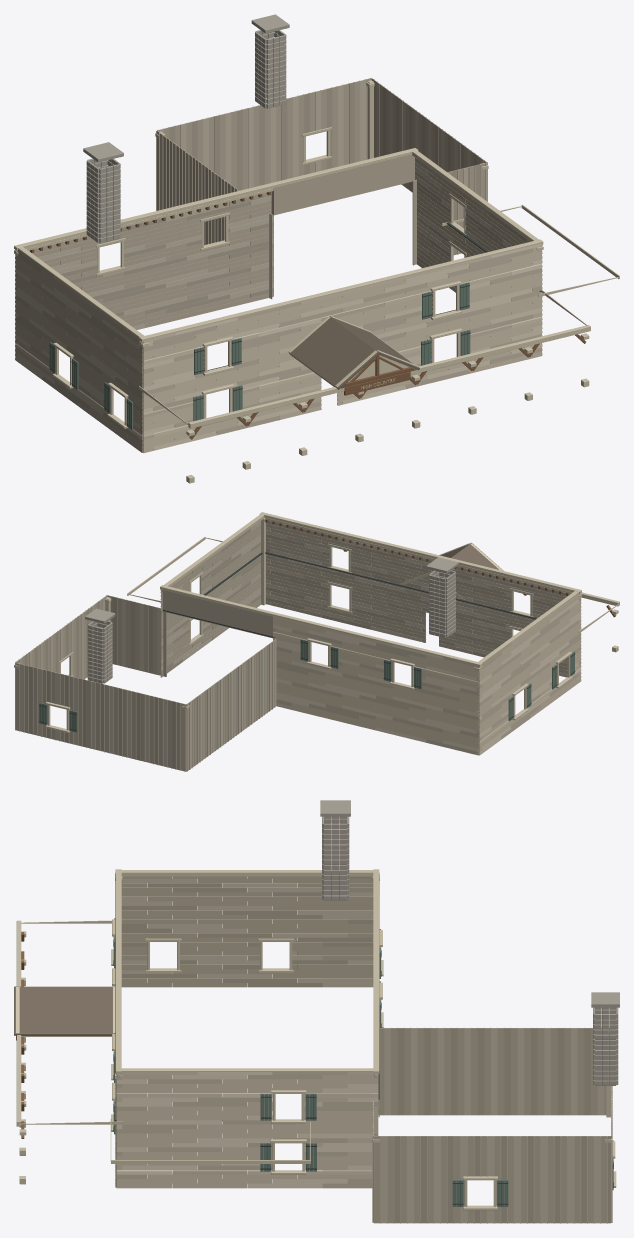
Rendered from ranch-remodel.glb.
The picture shows the model from 3 angles, top to bottom: view 1: azimuth 30°, elevation 25°; view 2: azimuth 150°, elevation 25°; view 3: azimuth 270°, elevation 25°; orthographic projection. The views are drawn at different scales.
Parts seen in each view (by area): view 1: Entry roof, Porch fascia, Main cornice.001, Main cornice.003, Return cornice.001, Return cornice, Entry roof.001, Kitchen junction clapboard, Kitchen junction clapboard.001, Kitchen junction clapboard.004, Kitchen junction clapboard.002, Kitchen junction clapboard.003 (+2 smaller); view 2: Main cornice.003, Main cornice.001, Main cornice.002, Return cornice.001, Front apron flashing, Return cornice, Entry roof, Kitchen junction clapboard.004, Kitchen junction clapboard.001, Kitchen junction clapboard.003, Kitchen junction clapboard.005, Kitchen junction clapboard.002 (+3 smaller); view 3: Entry roof.001, Return cornice, Main cornice.001, Main cornice.003, Return cornice.001, Porch fascia, East porch fascia, Cedar siding 0671, Cedar siding 0677, Cedar siding 0683, Cedar siding 0689, Cedar siding 0695 (+39 smaller).
Boxes of the visible parts, <box> form: Entry roof: <box>289,316,379,389</box>; Porch fascia: <box>188,325,590,428</box>; Main cornice.001: <box>14,148,418,250</box>; Main cornice.003: <box>139,239,543,342</box>; Return cornice.001: <box>412,150,538,241</box>; Return cornice: <box>18,246,144,337</box>; Entry roof.001: <box>330,316,419,370</box>; Kitchen junction clapboard: <box>271,176,414,215</box>; Kitchen junction clapboard.001: <box>271,172,414,210</box>; Kitchen junction clapboard.004: <box>271,159,414,197</box>; Kitchen junction clapboard.002: <box>271,168,414,206</box>; Kitchen junction clapboard.003: <box>271,163,414,201</box>; Main cornice.003: <box>259,512,581,594</box>; Main cornice.001: <box>160,585,482,666</box>; Main cornice.002: <box>265,517,581,596</box>; Return cornice.001: <box>163,514,264,586</box>; Front apron flashing: <box>265,552,537,619</box>; Return cornice: <box>478,591,578,663</box>; Entry roof: <box>451,543,503,570</box>; Kitchen junction clapboard.004: <box>162,594,272,623</box>; Kitchen junction clapboard.001: <box>162,604,272,634</box>; Kitchen junction clapboard.003: <box>162,597,272,627</box>; Kitchen junction clapboard.005: <box>162,590,272,620</box>; Kitchen junction clapboard.002: <box>162,601,272,631</box>; Entry roof.001: <box>14,986,114,1035</box>; Return cornice: <box>121,870,373,876</box>; Main cornice.001: <box>373,869,379,1074</box>; Main cornice.003: <box>115,869,121,1074</box>; Return cornice.001: <box>121,1068,373,1074</box>; Porch fascia: <box>16,920,21,1126</box>; East porch fascia: <box>111,1160,310,1163</box>; Cedar siding 0671: <box>577,1028,584,1115</box>; Cedar siding 0677: <box>557,1028,564,1115</box>; Cedar siding 0683: <box>537,1028,544,1115</box>; Cedar siding 0689: <box>517,1028,524,1115</box>; Cedar siding 0695: <box>497,1028,504,1115</box>.
Bounding box in the file's own units: 27.29 × 11.34 × 29.07.
